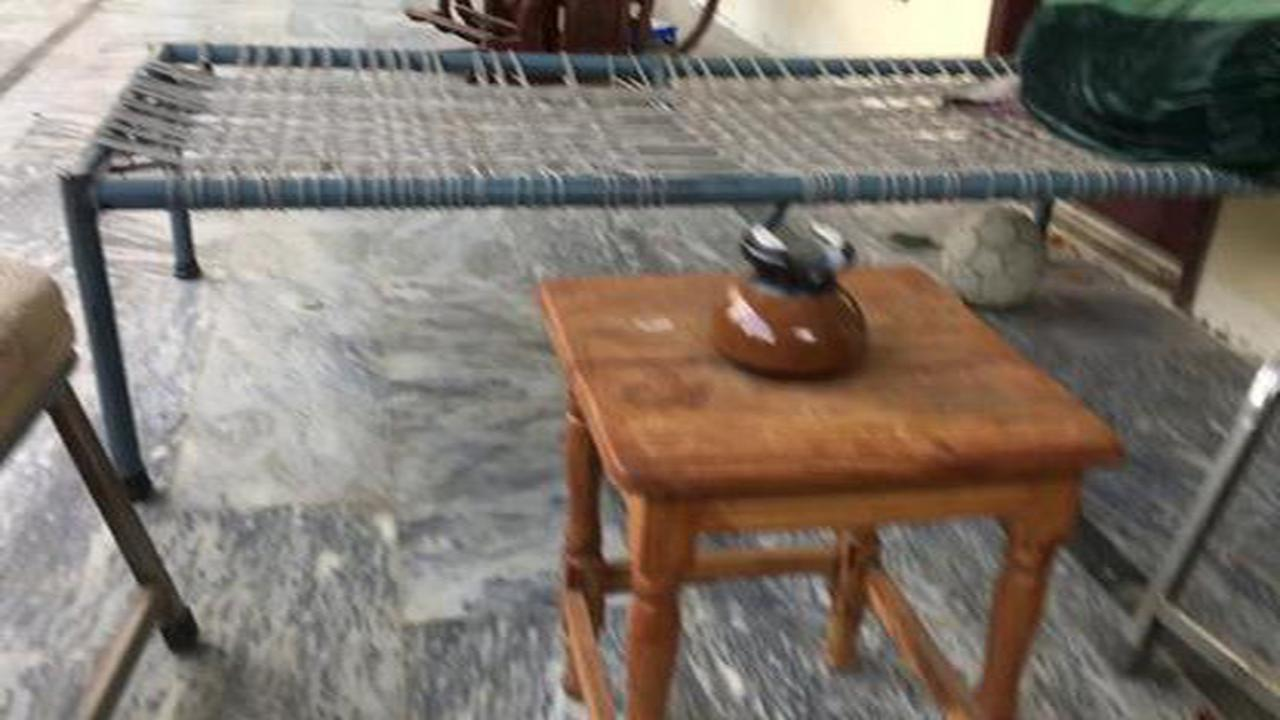insulator_pin: (693, 205, 890, 393)
